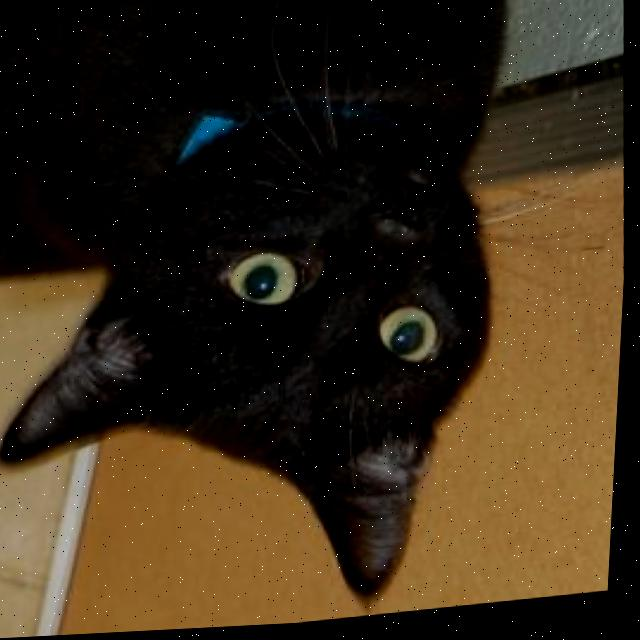Bombay: (0, 0, 544, 640)
